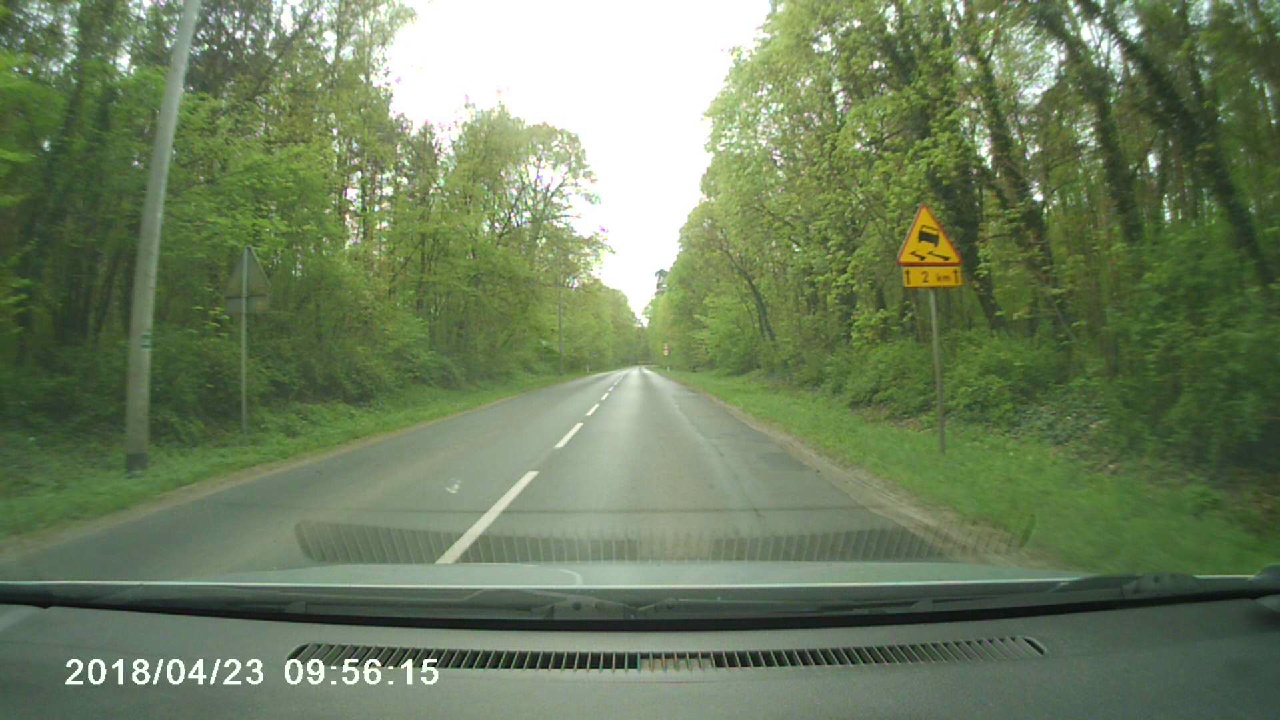A15: (895, 204, 963, 266)
